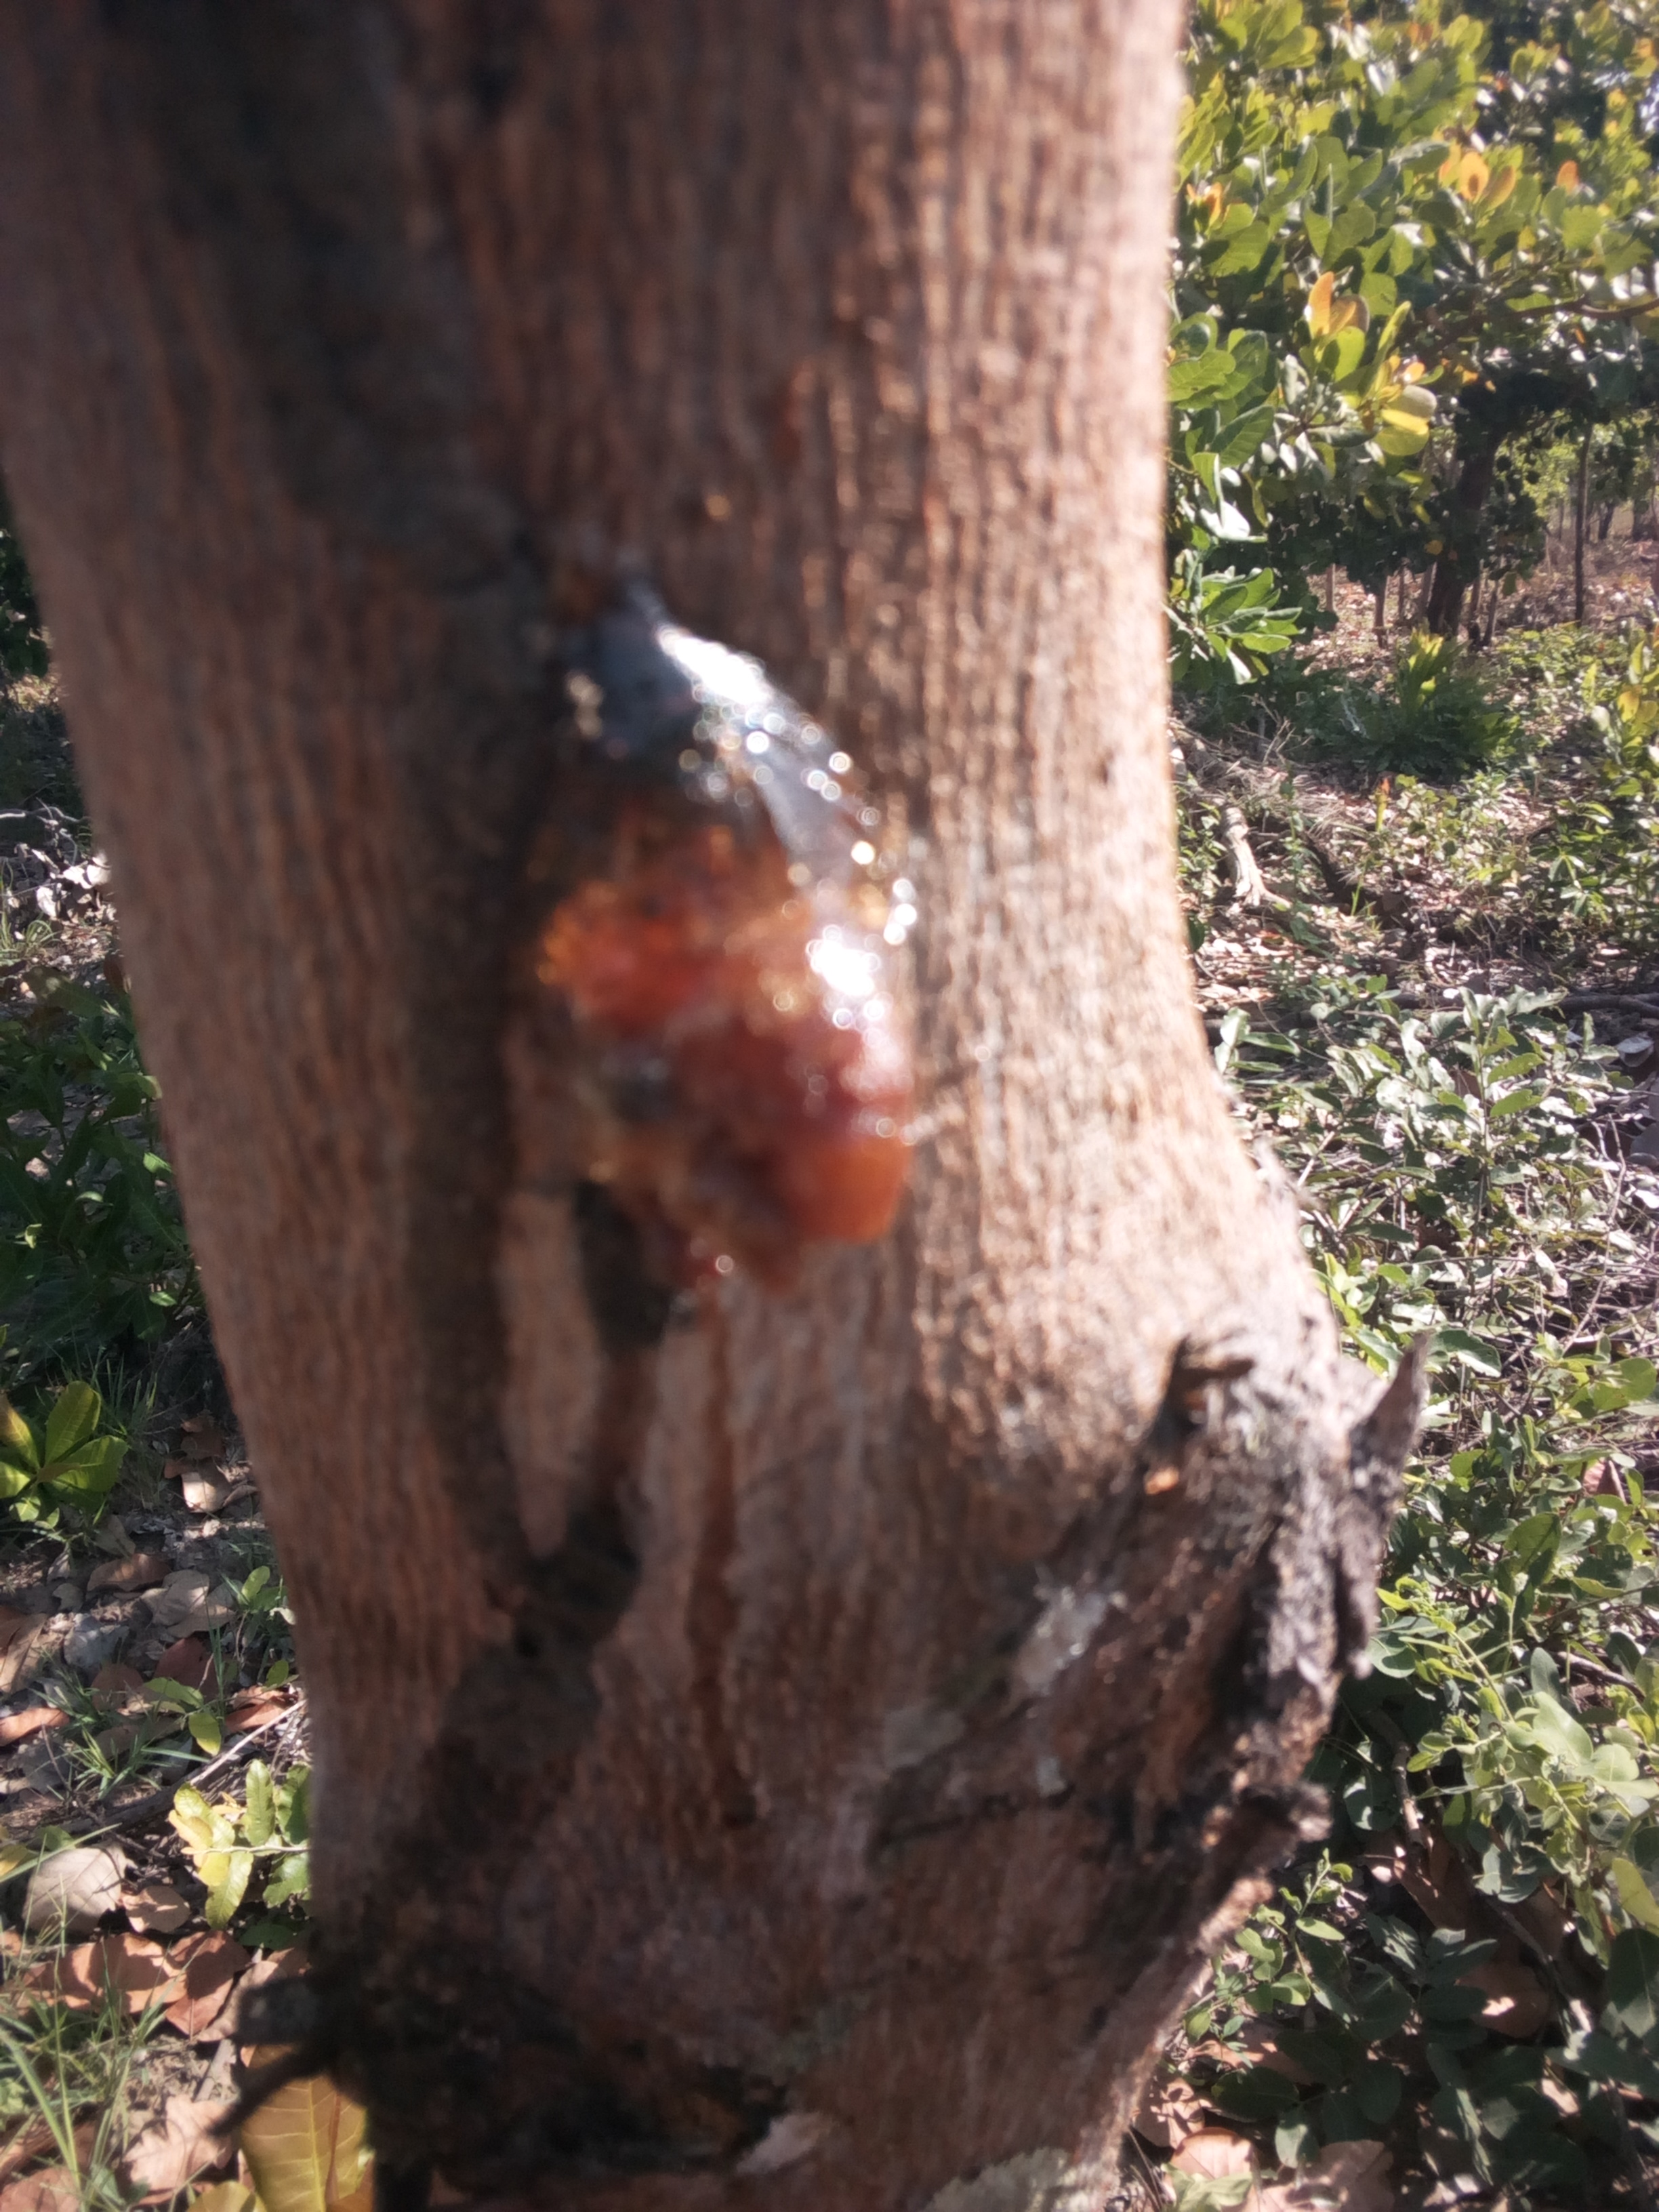Gommose: (554, 557, 931, 1296)
